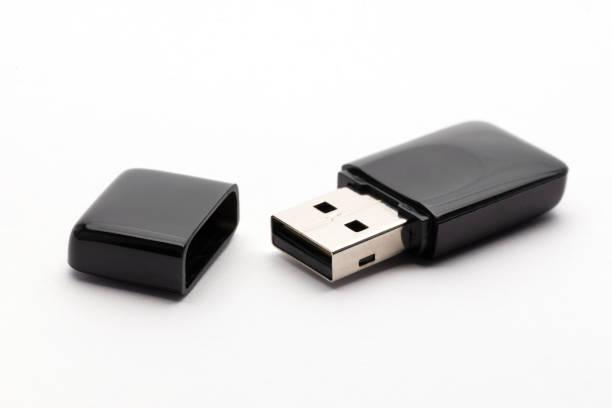USB Flash Drive: (271, 121, 570, 289)
